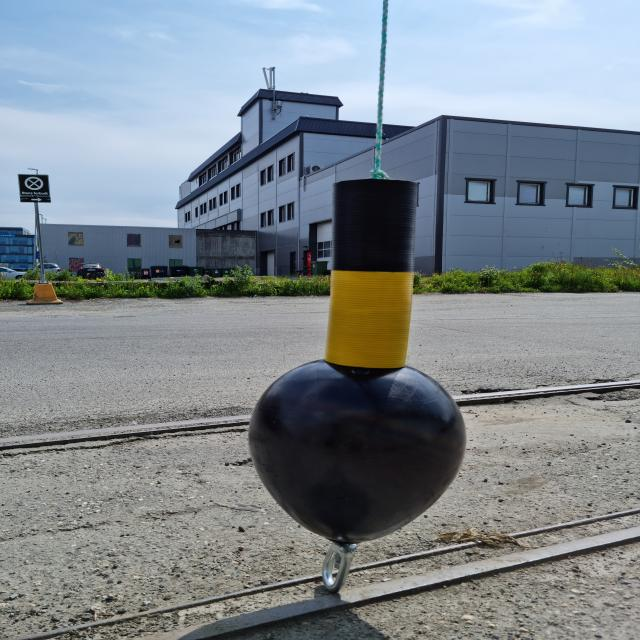east: (247, 178, 465, 542)
